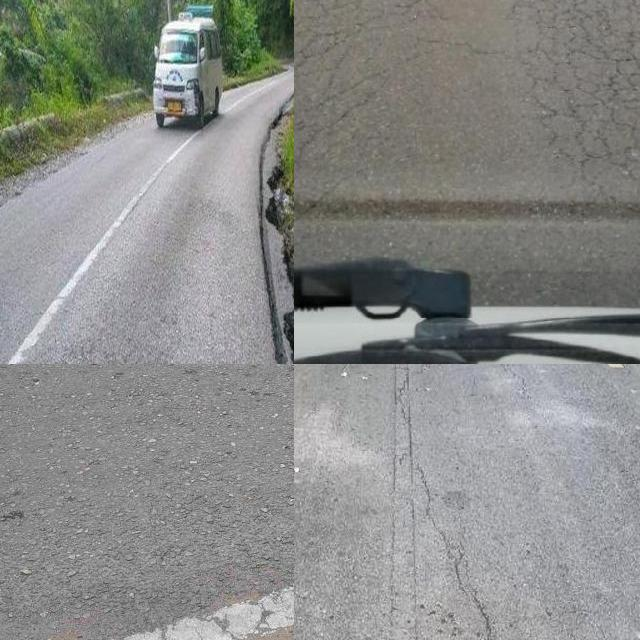Memanjang: (385, 393, 500, 640)
Pinggir: (244, 137, 294, 364)
Retak Buaya: (525, 0, 640, 202), (294, 0, 386, 226)
